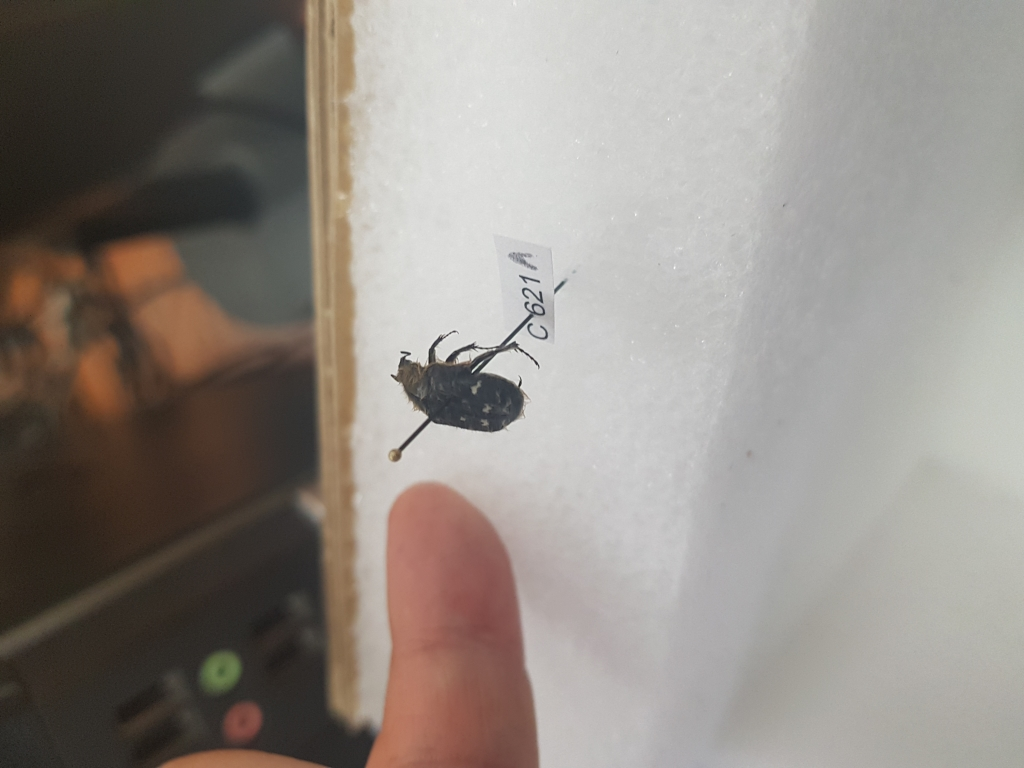Tropinota_senicula: (392, 326, 543, 435)
